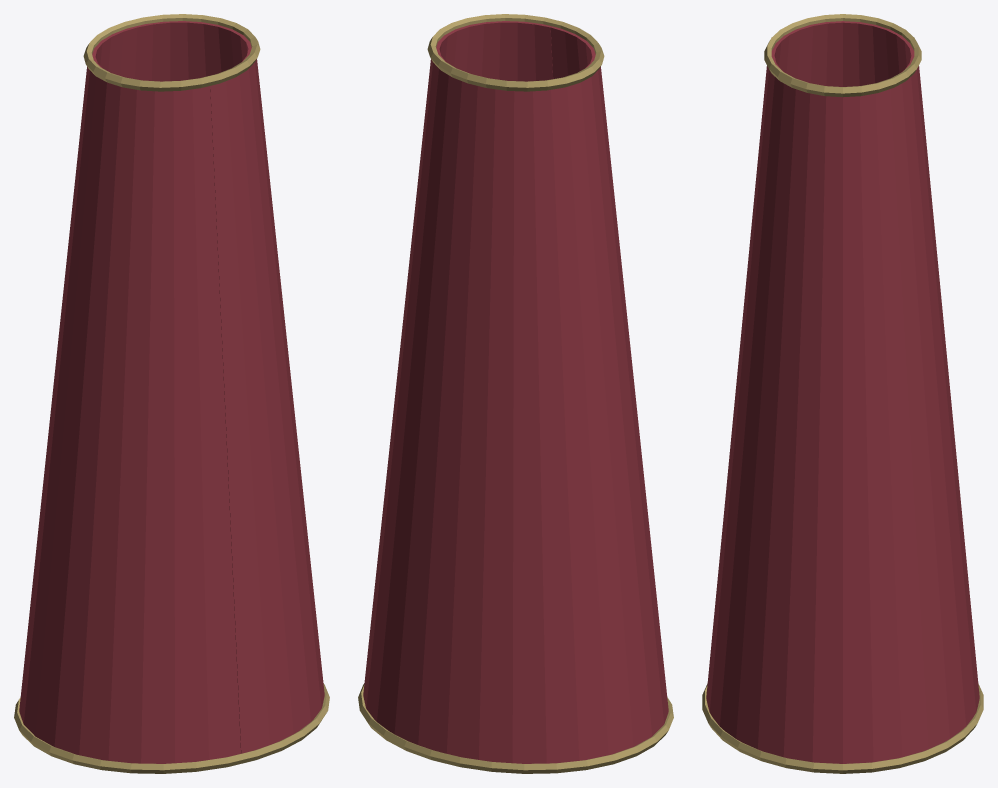
The model's file is SinRobe.fbx.
3 renders of one model, left to right at view 1: azimuth 30°, elevation 25°; view 2: azimuth 150°, elevation 25°; view 3: azimuth 270°, elevation 25°, orthographic.
Visible parts, largest first — view 1: SinRobe; view 2: SinRobe; view 3: SinRobe.
Boxes of the visible parts, box(x1,y1,x2,y2) form: SinRobe: box(14, 14, 329, 773); SinRobe: box(358, 14, 673, 773); SinRobe: box(702, 14, 983, 773).
Size of the model in its own units: 33.76 by 76.04 by 29.55.
